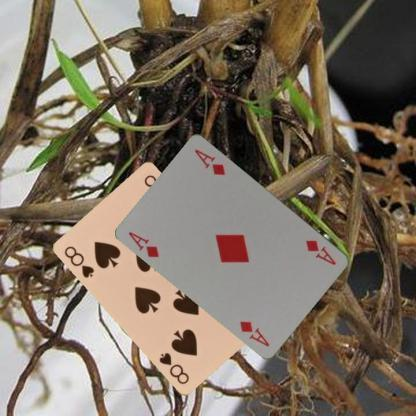8s: (62, 243, 96, 280)
Ad: (126, 229, 161, 259), (303, 237, 338, 266)
